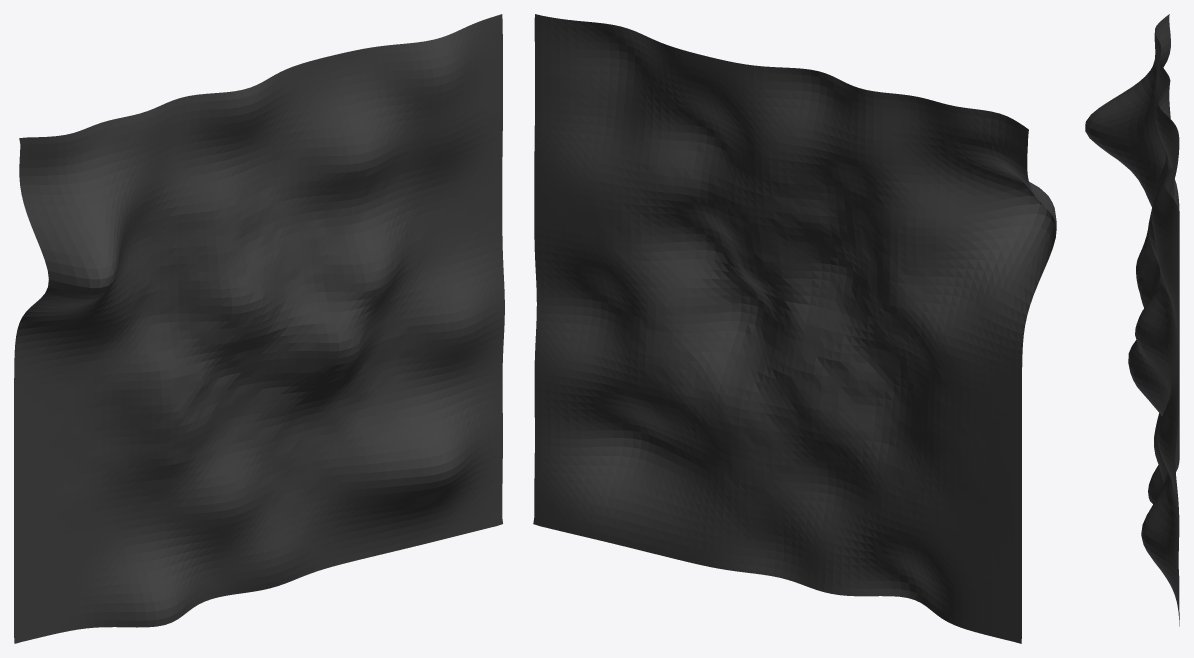
The model's file is candidate_00.glb.
3 renders of one model, left to right at view 1: azimuth 30°, elevation 25°; view 2: azimuth 150°, elevation 25°; view 3: azimuth 270°, elevation 25°, orthographic. The views are drawn at different scales.
Visible parts, largest first — view 1: world; view 2: world; view 3: world.
Boxes of the visible parts, box(x1,y1,x2,y2) form: world: box(14, 14, 504, 643); world: box(533, 14, 1056, 643); world: box(1085, 14, 1179, 626).
Bounding box in the file's own units: 4000 × 3989 × 796.
Materials: 1 (1 with a texture image).
